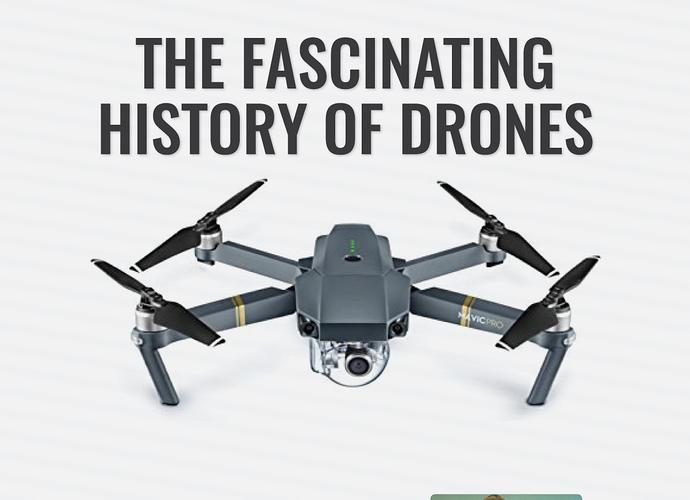drone: (94, 179, 602, 415)
